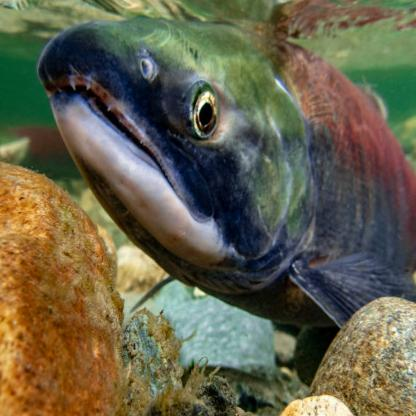sockeye: (38, 6, 416, 327)
